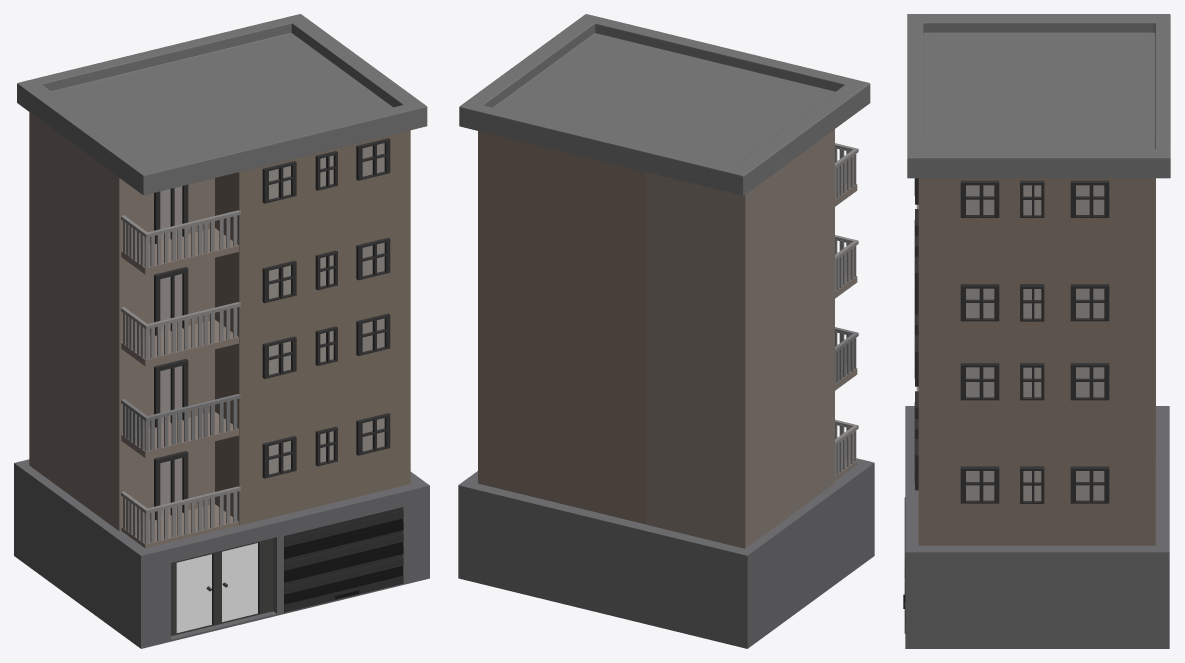
The picture shows the model from 3 angles, left to right: view 1: azimuth 30°, elevation 25°; view 2: azimuth 150°, elevation 25°; view 3: azimuth 270°, elevation 25°; orthographic projection. The views are drawn at different scales.
Visible parts, largest first — view 1: pasted__pasted__pasted__pCube30.003, pasted__pCube30.001, pasted__pCube30.002, pasted__pasted__pCube30.002, pCube30, pasted__pasted__pasted__pCube30.002, pasted__pasted__pasted__pCube30.001, pasted__pasted__pCube30.001, pasted__pCube30, pasted__pasted__pasted__pasted__pCube30.001, pasted__pCube33.001, pasted__pCube33.002 (+26 smaller); view 2: pasted__pasted__pasted__pCube30.003, pasted__pCube30.001, pasted__pasted__pasted__pCube30.001, pasted__pasted__pCube30.001, pasted__pCube30, pasted__pCube30.002, pasted__pasted__pCube30.002, pCube30, pasted__pasted__pasted__pasted__pCube30.001, pasted__pasted__pasted__pCube30.002; view 3: pasted__pasted__pasted__pCube30.003, pasted__pCube30.001, pasted__pasted__pCube30.002, pasted__pCube30.002, pCube30, pasted__pasted__pasted__pCube30.002, pasted__pasted__pasted__pasted__pCube33, pasted__pasted__pasted__pCube33, pasted__pasted__pasted__pasted__pasted__pCube33, pasted__pasted__pasted__pasted__pCube33.001, pasted__pasted__pasted__pasted__pasted__pCube33.001, pasted__pasted__pasted__pasted__pCube33.002 (+6 smaller).
Boxes of the visible parts, x1,y1,x2,y2 form: pasted__pasted__pasted__pCube30.003: (17, 14, 427, 195); pasted__pCube30.001: (14, 459, 429, 648); pasted__pCube30.002: (215, 302, 410, 436); pasted__pasted__pCube30.002: (215, 211, 410, 344); pCube30: (215, 395, 410, 525); pasted__pasted__pasted__pCube30.002: (215, 130, 410, 253); pasted__pasted__pasted__pCube30.001: (29, 190, 214, 347); pasted__pasted__pCube30.001: (29, 284, 214, 440); pasted__pCube30: (29, 375, 214, 531); pasted__pasted__pasted__pasted__pCube30.001: (29, 112, 214, 257); pasted__pCube33.001: (171, 538, 273, 635); pasted__pCube33.002: (154, 451, 188, 520); pasted__pasted__pasted__pCube30.003: (459, 14, 870, 195); pasted__pCube30.001: (458, 458, 874, 648); pasted__pasted__pasted__pCube30.001: (646, 208, 834, 366); pasted__pasted__pCube30.001: (646, 301, 834, 457); pasted__pCube30: (646, 392, 834, 548); pasted__pCube30.002: (478, 301, 645, 435); pasted__pasted__pCube30.002: (478, 209, 645, 342); pCube30: (478, 395, 645, 524); pasted__pasted__pasted__pasted__pCube30.001: (646, 129, 834, 272); pasted__pasted__pasted__pCube30.002: (478, 131, 645, 251); pasted__pasted__pasted__pCube30.003: (907, 14, 1170, 178); pasted__pCube30.001: (905, 406, 1169, 648); pasted__pasted__pCube30.002: (918, 261, 1155, 358); pasted__pCube30.002: (918, 357, 1155, 453); pCube30: (918, 453, 1155, 545); pasted__pasted__pasted__pCube30.002: (918, 178, 1155, 262); pasted__pasted__pasted__pasted__pCube33: (1070, 466, 1109, 503); pasted__pasted__pasted__pCube33: (960, 466, 999, 503); pasted__pasted__pasted__pasted__pasted__pCube33: (1070, 363, 1109, 400); pasted__pasted__pasted__pasted__pCube33.001: (960, 363, 999, 400); pasted__pasted__pasted__pasted__pasted__pCube33.001: (1070, 284, 1109, 321); pasted__pasted__pasted__pasted__pCube33.002: (960, 284, 999, 321).
Bounding box in the file's own units: 0.2211 × 0.3451 × 0.1706.
